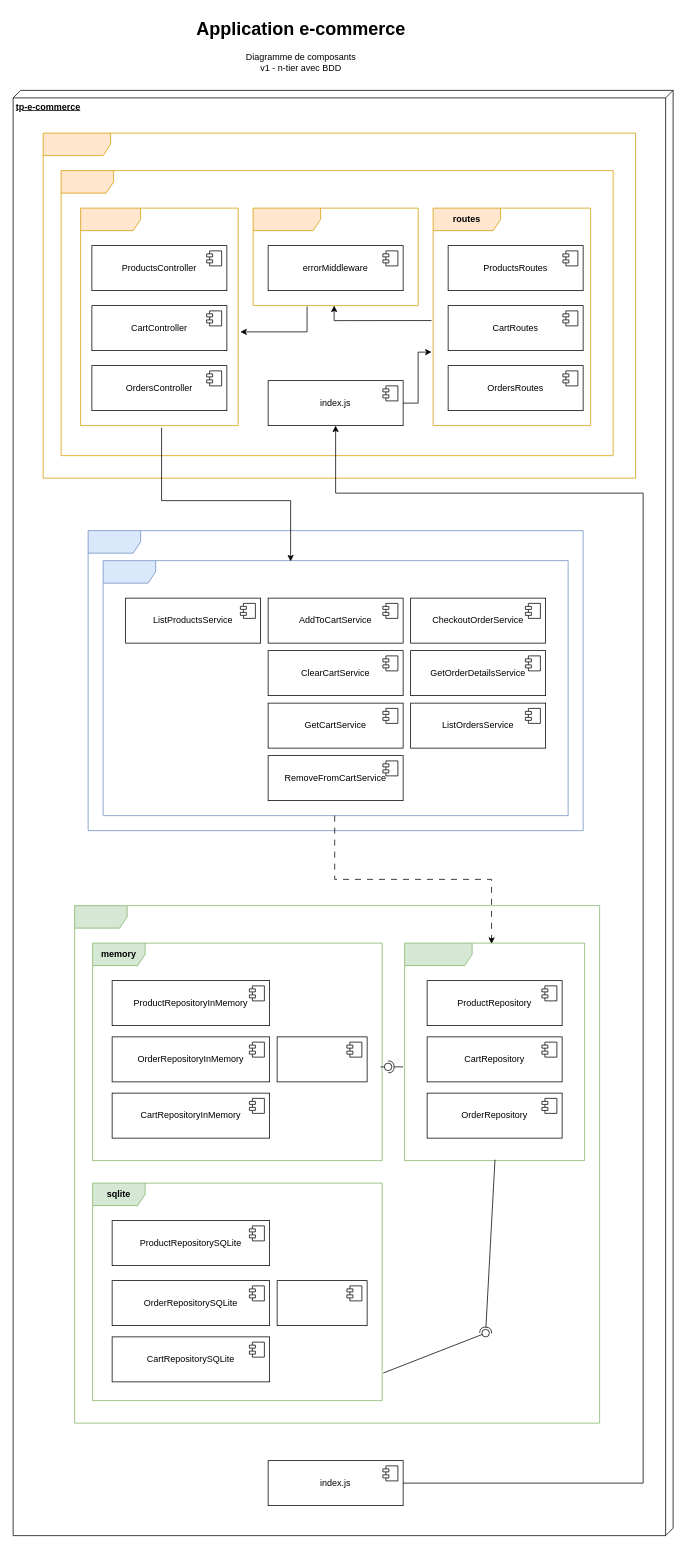
This 686x1549 diagram has some shape labels left out. Here are the shapes that lost their labels. From the top down, the box of each, then its label:
(252, 207, 418, 306): middlewares
(80, 207, 238, 426): controllers
(60, 170, 613, 456): http
(42, 132, 636, 478): presentation
(87, 530, 583, 831): business
(102, 560, 568, 816): services
(276, 1036, 367, 1082): state
(404, 942, 585, 1161): repositories
(74, 905, 600, 1423): data
(276, 1280, 367, 1326): db
